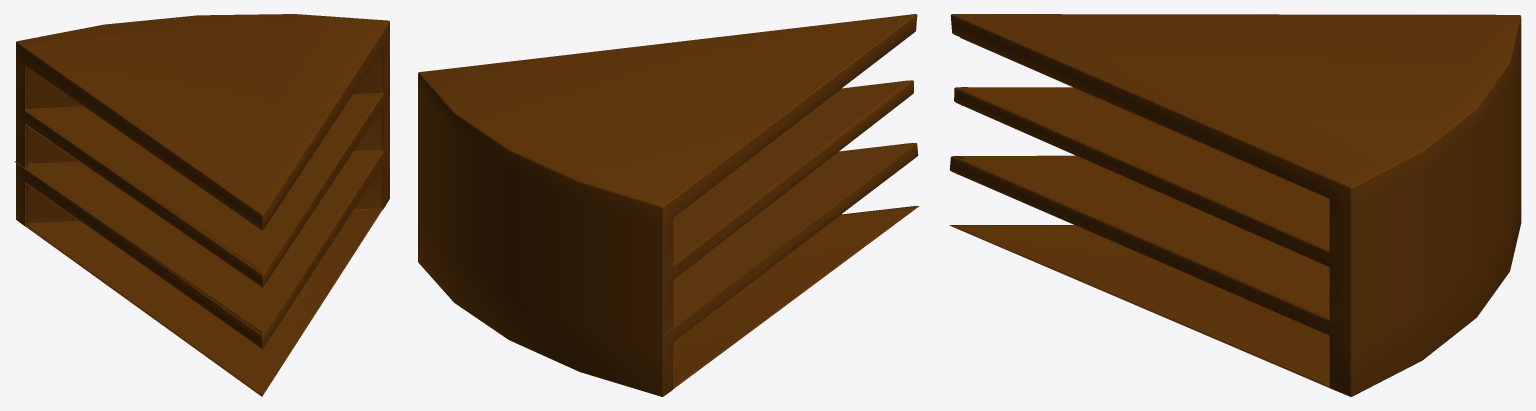
Rendered from коржи.fbx.
3 renders of one model, left to right at view 1: azimuth 30°, elevation 25°; view 2: azimuth 150°, elevation 25°; view 3: azimuth 270°, elevation 25°, orthographic. The views are drawn at different scales.
Parts seen in each view (by area): view 1: Circle; view 2: Circle; view 3: Circle.
Boxes of the visible parts, box(x1,y1,x2,y2) form: Circle: box(14, 14, 389, 396); Circle: box(418, 14, 919, 396); Circle: box(949, 14, 1521, 396).
Bounding box in the file's own units: 70.82 × 40.61 × 98.71.
